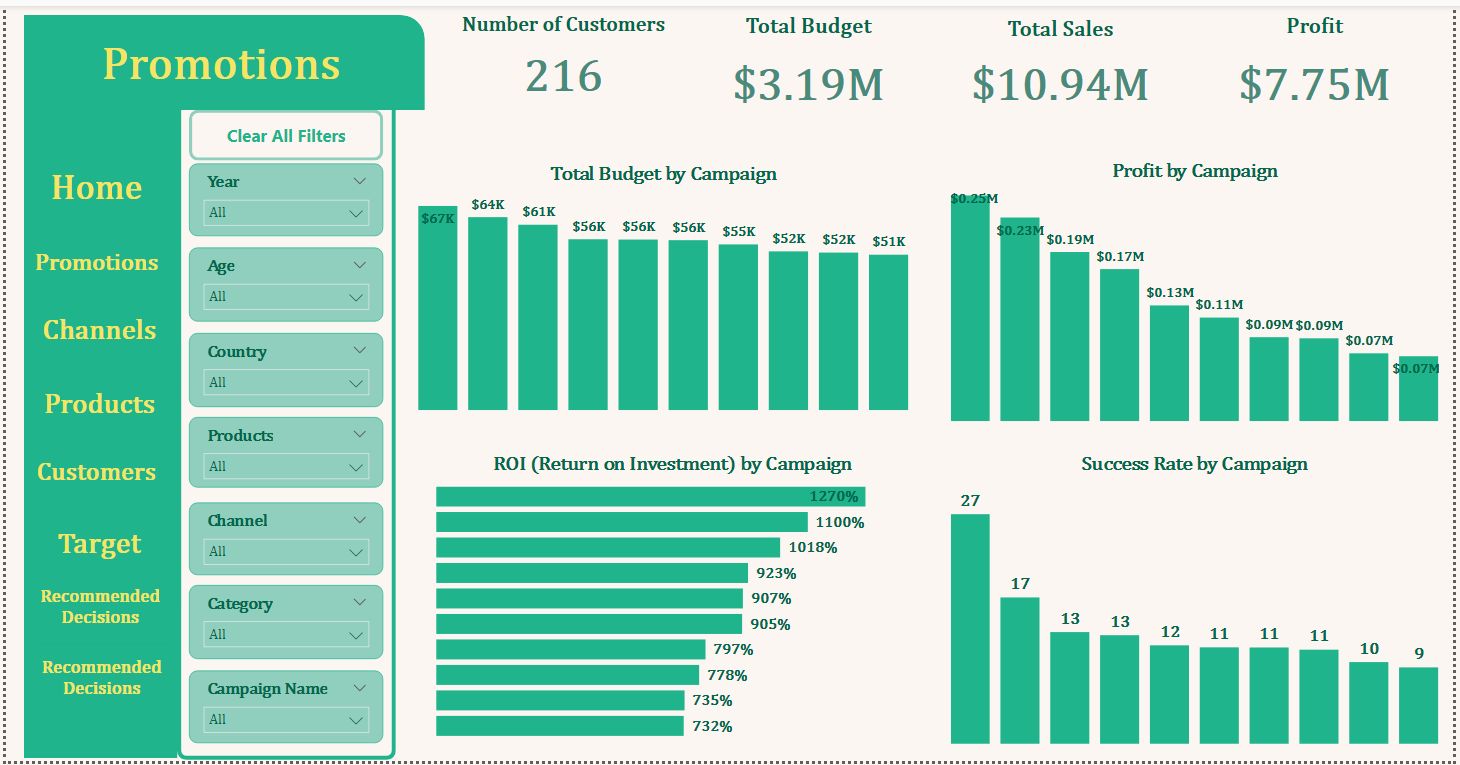

This screenshot's page, from the dashboard's own definition file:
{"tool":"powerbi","page":{"name":"Promotions","canvas":[1380,720],"ordinal":1},"visuals":[{"type":"card","title":"Number of Customers","fields":{"Values":["DAX_Measures.Number Of Campaigns"]},"box":[426.1,7.8,210,91.7],"z":0},{"type":"card","title":"Total Budget","fields":{"Values":["DAX_Measures.Total Budget"]},"box":[660,7.8,211.7,106.7],"z":1000},{"type":"card","title":"Profit","fields":{"Values":["DAX_Measures.Profit"]},"box":[1139.4,7.8,218.3,106.7],"z":2000},{"type":"card","title":"Total Sales","fields":{"Values":["DAX_Measures.Total Sales"]},"box":[895.5,9.4,220,101.7],"z":3000},{"type":"columnChart","title":"Total Budget by Campaign","fields":{"Category":["promotion.name"],"Y":["DAX_Measures.Total Budget"]},"box":[387.5,150,478.5,241],"z":4000},{"type":"columnChart","title":"Profit by Campaign","fields":{"Category":["promotion.name"],"Y":["DAX_Measures.Profit"]},"box":[895.7,147.8,476,254.3],"z":5000},{"type":"barChart","title":"ROI (Return on Investment) by Campaign","fields":{"Y":["DAX_Measures.ROI (Return on Investment)"],"Category":["promotion.name"]},"box":[404.4,426.1,461.7,275],"z":6000},{"type":"columnChart","title":"Success Rate by Campaign","fields":{"Category":["promotion.name"],"Y":["DAX_Measures.Success Rate"]},"box":[895.7,425.9,476,283.1],"z":7000},{"type":"shape","box":[163.4,85.9,208.9,633.6],"z":8000},{"type":"slicer","fields":{"Values":["Dimdate.date.Variation.Date Hierarchy.Year"]},"box":[175.2,150,185.3,69.1],"z":9000},{"type":"slicer","fields":{"Values":["Customer.Age"]},"box":[175.2,230.8,185.3,70.8],"z":10000},{"type":"slicer","fields":{"Values":["Customer.country"]},"box":[175.2,311.7,185.3,70.8],"z":11000},{"type":"slicer","fields":{"Values":["Products.Products"]},"box":[175.2,392.6,185.3,67.4],"z":12000},{"type":"slicer","fields":{"Values":["place.name"]},"box":[175.2,473.5,185.3,69.1],"z":13000},{"type":"slicer","fields":{"Values":["Products.Category"]},"box":[175.2,552.7,185.3,70.8],"z":14000},{"type":"slicer","fields":{"Values":["promotion.name"]},"box":[175.2,633.6,185.3,69.1],"z":15000},{"type":"actionButton","box":[175.2,99.4,185.3,48.9],"z":16000},{"type":"shape","box":[16.8,85.9,146.6,631.9],"z":17000},{"type":"shape","box":[16.8,8.4,382.5,91],"z":18000},{"type":"actionButton","box":[23.6,147,126.4,55.6],"z":19000},{"type":"actionButton","box":[23.6,217.7,126.4,55.6],"z":20000},{"type":"actionButton","box":[25.3,283.4,126.4,55.6],"z":21000},{"type":"actionButton","box":[25.3,354.2,126.4,55.6],"z":22000},{"type":"actionButton","box":[23.6,418.2,126.4,55.6],"z":23000},{"type":"actionButton","box":[25.3,487.3,126.4,55.6],"z":24000},{"type":"actionButton","box":[24.5,536.1,130.5,75],"z":25000},{"type":"actionButton","box":[25.1,605.6,130.3,73.9],"z":26000}]}

Visuals, with their boxes in screenshot pixels (x1, y1, x2, y2), scaled from the page's 1380x720 canvas onto the 1460x765 screenshot:
"Number of Customers" card: bbox=[451, 8, 673, 106]
"Total Budget" card: bbox=[698, 8, 922, 122]
"Profit" card: bbox=[1205, 8, 1436, 122]
"Total Sales" card: bbox=[947, 10, 1180, 118]
"Total Budget by Campaign" columnChart: bbox=[410, 159, 916, 415]
"Profit by Campaign" columnChart: bbox=[948, 157, 1451, 427]
"ROI (Return on Investment) by Campaign" barChart: bbox=[428, 453, 916, 745]
"Success Rate by Campaign" columnChart: bbox=[948, 453, 1451, 753]
shape: bbox=[173, 91, 394, 764]
slicer - Dimdate.date.Variation.Date Hierarchy.Year: bbox=[185, 159, 381, 233]
slicer - Customer.Age: bbox=[185, 245, 381, 320]
slicer - Customer.country: bbox=[185, 331, 381, 406]
slicer - Products.Products: bbox=[185, 417, 381, 489]
slicer - place.name: bbox=[185, 503, 381, 577]
slicer - Products.Category: bbox=[185, 587, 381, 662]
slicer - promotion.name: bbox=[185, 673, 381, 747]
actionButton: bbox=[185, 106, 381, 158]
shape: bbox=[18, 91, 173, 763]
shape: bbox=[18, 9, 422, 106]
actionButton: bbox=[25, 156, 159, 215]
actionButton: bbox=[25, 231, 159, 290]
actionButton: bbox=[27, 301, 160, 360]
actionButton: bbox=[27, 376, 160, 435]
actionButton: bbox=[25, 444, 159, 503]
actionButton: bbox=[27, 518, 160, 577]
actionButton: bbox=[26, 570, 164, 649]
actionButton: bbox=[27, 643, 164, 722]
